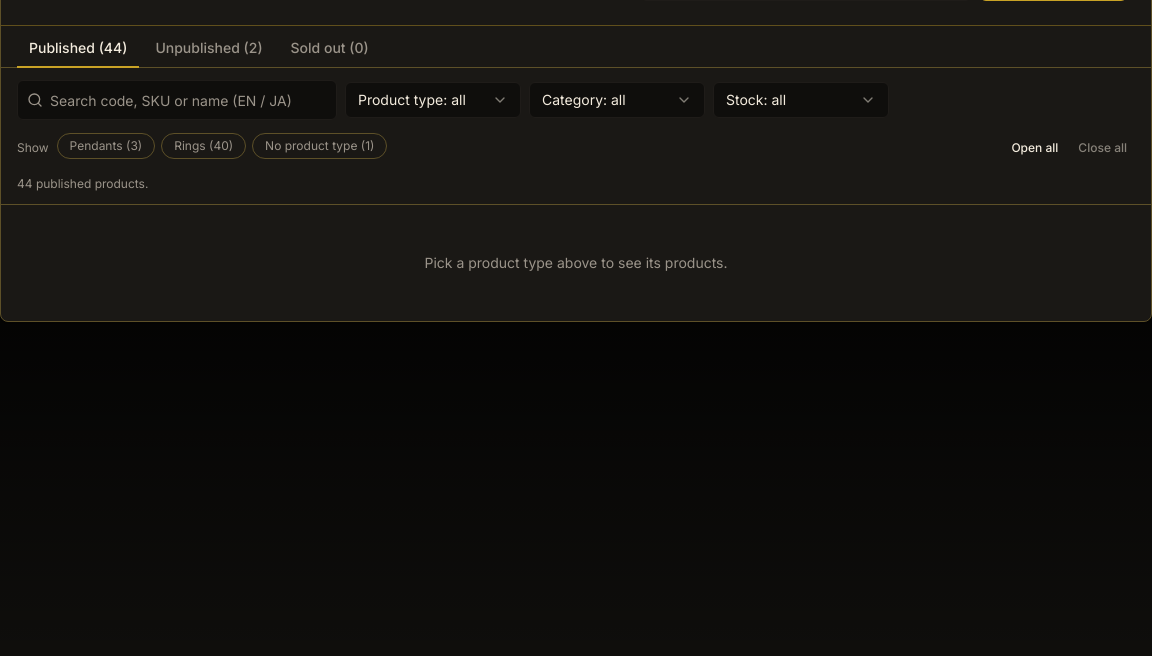
Test: Catalog: product types picked by chip, with paging › Next / Previous page through a type: 26–40 of 40, kept in ?pg=
Click the button "Rings (40)".
click(204, 146)  # box [161, 133, 246, 159]
(page scrolled)
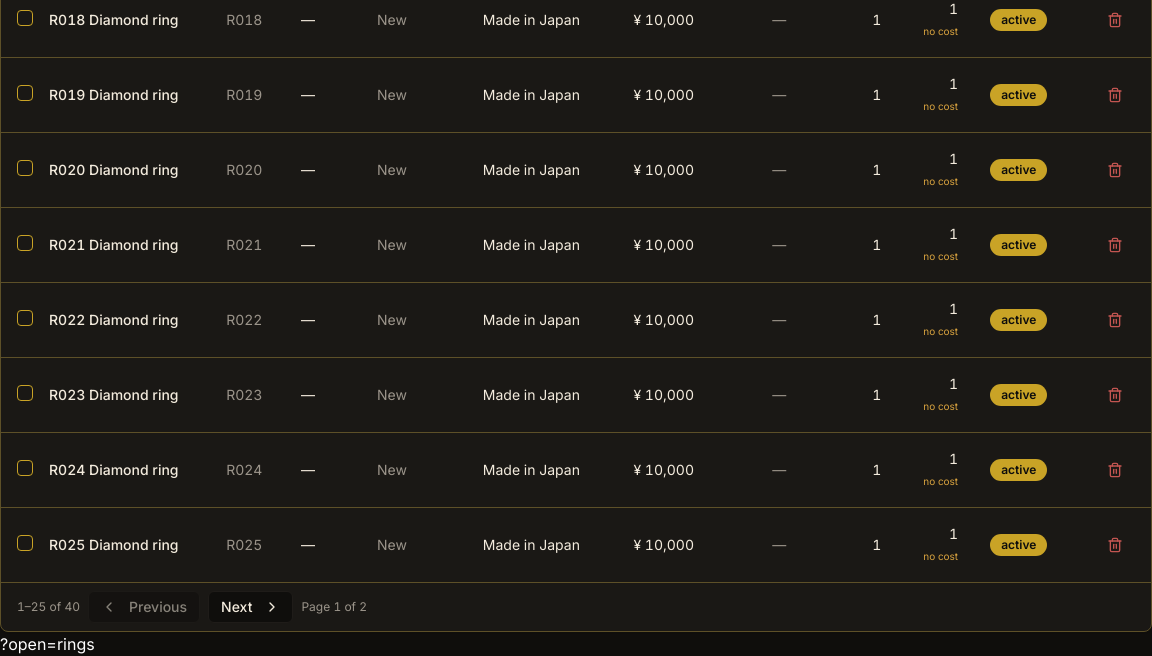
Result: the button with aria-label "Previous page of Rings" is disabled at [88, 590, 200, 622]
Click the button with aria-label "Next page of Rings".
click(251, 606)  # box [208, 590, 293, 622]
(page scrolled)
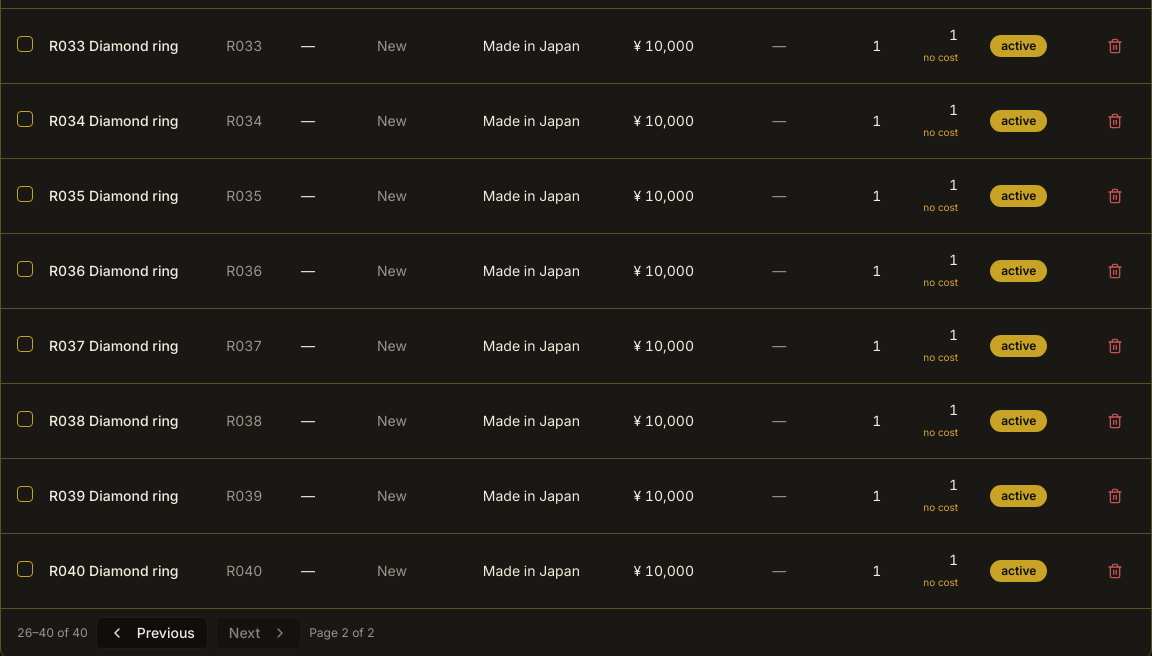
Result: the text with test id "catalog-group-range" reads "26–40 of 40" at [17, 624, 88, 640]
Result: the button with aria-label "Next page of Rings" is disabled at [216, 616, 301, 648]
Click the button with aria-label "Previous page of Rings".
click(152, 632)  # box [96, 616, 208, 648]
(page scrolled)
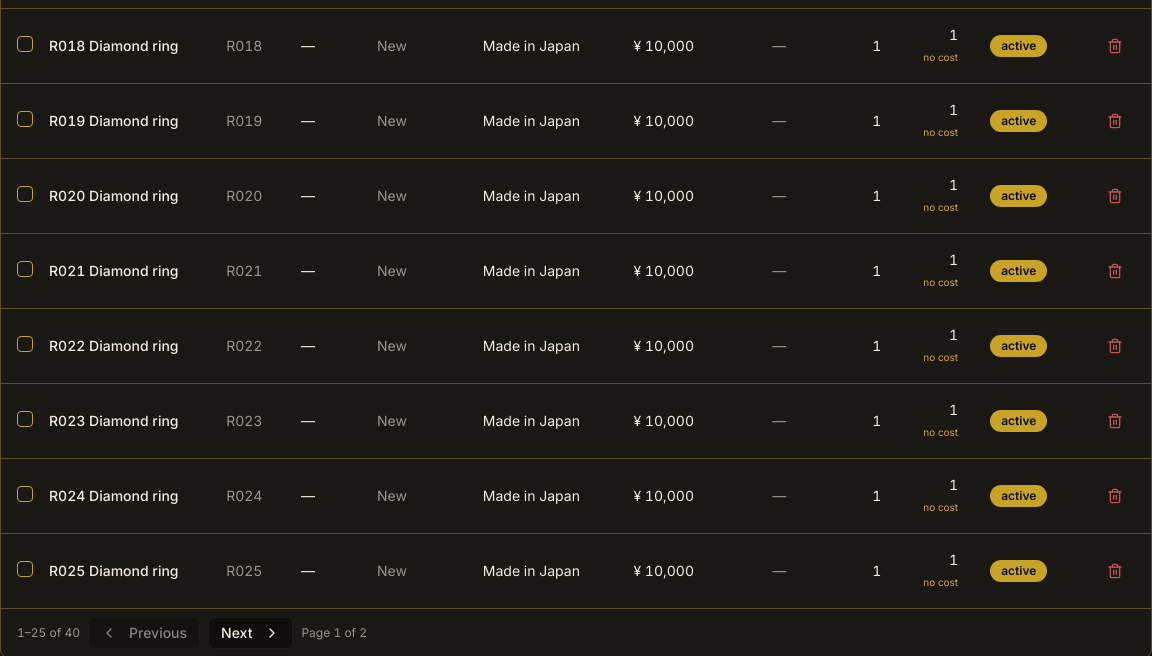
Result: the text with test id "catalog-group-range" reads "1–25 of 40" at [17, 624, 80, 640]
